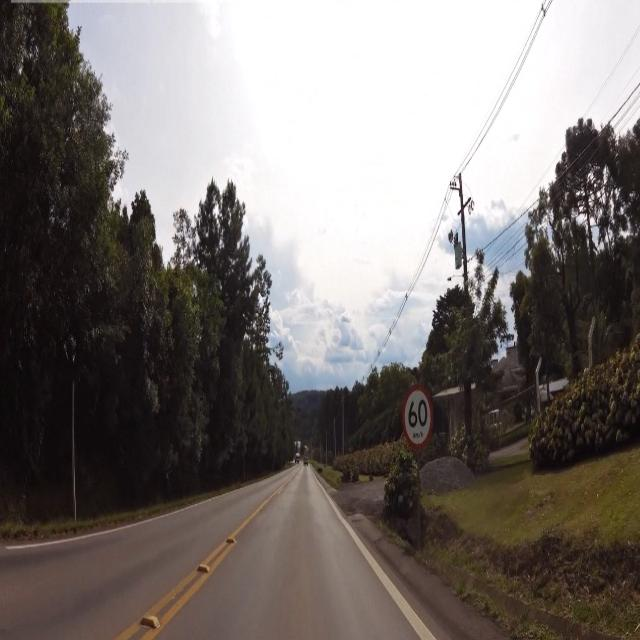R-19: (398, 368, 444, 457)
